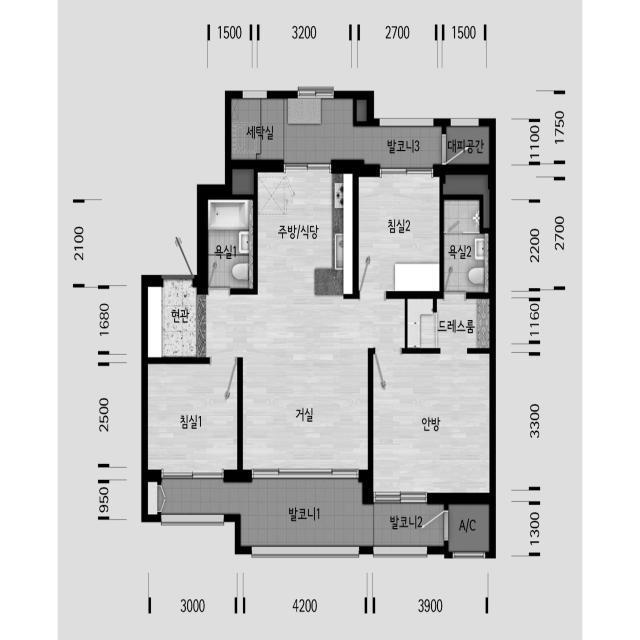space_balconi: (162, 482, 444, 546), (231, 99, 442, 164)
space_bedroom: (373, 354, 490, 493), (148, 364, 237, 470), (358, 177, 439, 291)
space_dressroom: (408, 299, 490, 348)
space_front: (147, 279, 207, 357)
space_kitchen: (258, 172, 353, 295)
space_living_room: (206, 295, 405, 470)
space_other: (443, 175, 489, 228), (448, 505, 489, 552), (446, 127, 489, 164), (232, 169, 254, 194), (148, 482, 157, 515), (357, 101, 367, 121)
space_toilet: (444, 200, 488, 293), (208, 200, 253, 288)
